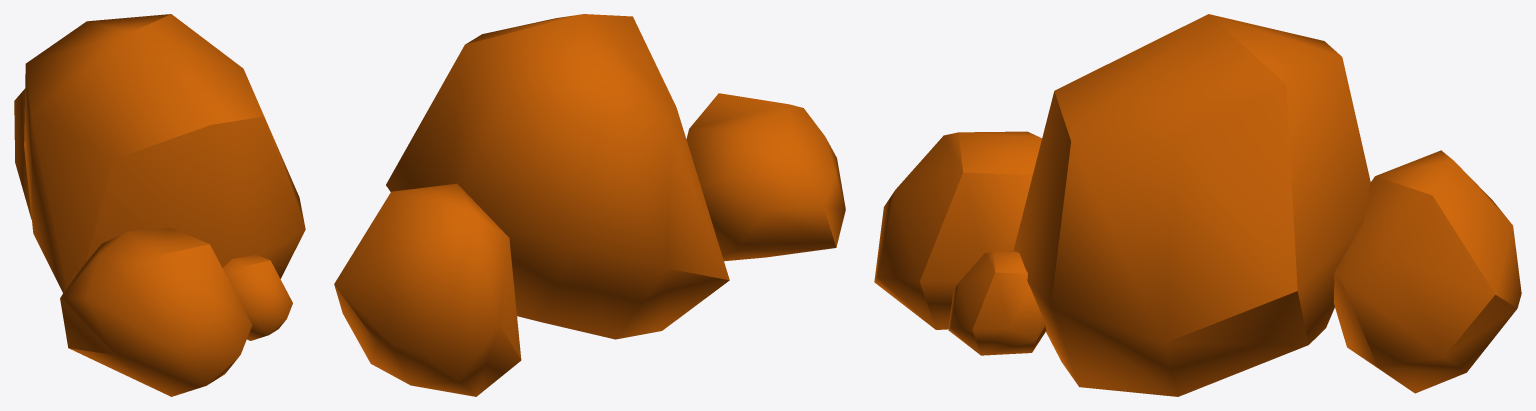
The model's file is SRA_Metal_Copper_Ore_02.glb.
The picture shows the model from 3 angles, left to right: view 1: azimuth 30°, elevation 25°; view 2: azimuth 150°, elevation 25°; view 3: azimuth 270°, elevation 25°; orthographic projection. The views are drawn at different scales.
Visible parts, largest first — view 1: Metal_Copper_Ore_02; view 2: Metal_Copper_Ore_02; view 3: Metal_Copper_Ore_02.
Boxes of the visible parts, <box> form: Metal_Copper_Ore_02: <box>14,14,305,396</box>; Metal_Copper_Ore_02: <box>334,14,845,396</box>; Metal_Copper_Ore_02: <box>874,14,1521,396</box>.
Bounding box in the file's own units: 0.3098 × 0.2918 × 0.4749.
1 material, 1 textured.
